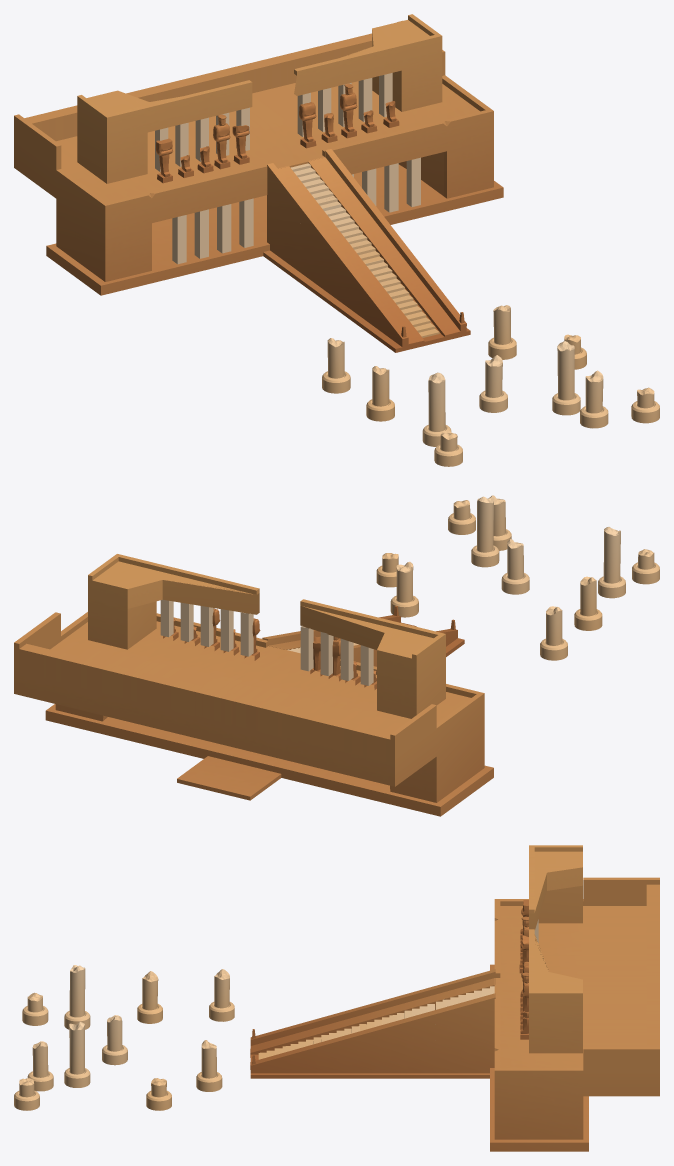
File: building01.fbx
3 views of the same model, one above another, from view 1: azimuth 30°, elevation 25°; view 2: azimuth 150°, elevation 25°; view 3: azimuth 270°, elevation 25° (orthographic). The views are drawn at different scales.
Visible parts, largest first — view 1: Cube.012, Cube.002; view 2: Cube.012; view 3: Cube.012, Cube.002.
Boxes of the visible parts, left/top/right/bottom form: Cube.012: left=14, top=14, right=659, bottom=466; Cube.002: left=289, top=181, right=432, bottom=329; Cube.012: left=14, top=495, right=659, bottom=816; Cube.012: left=14, top=845, right=659, bottom=1151; Cube.002: left=307, top=983, right=449, bottom=1078.
Size of the model in its own units: 753 by 286 by 1157.
